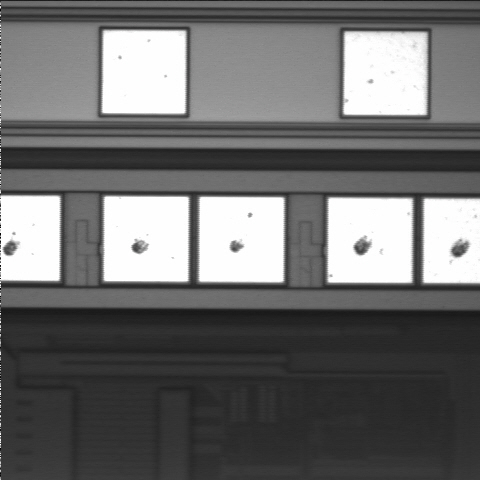pad: (104, 196, 189, 282), (199, 197, 284, 282), (328, 198, 412, 283), (102, 30, 186, 114), (344, 32, 427, 115)
